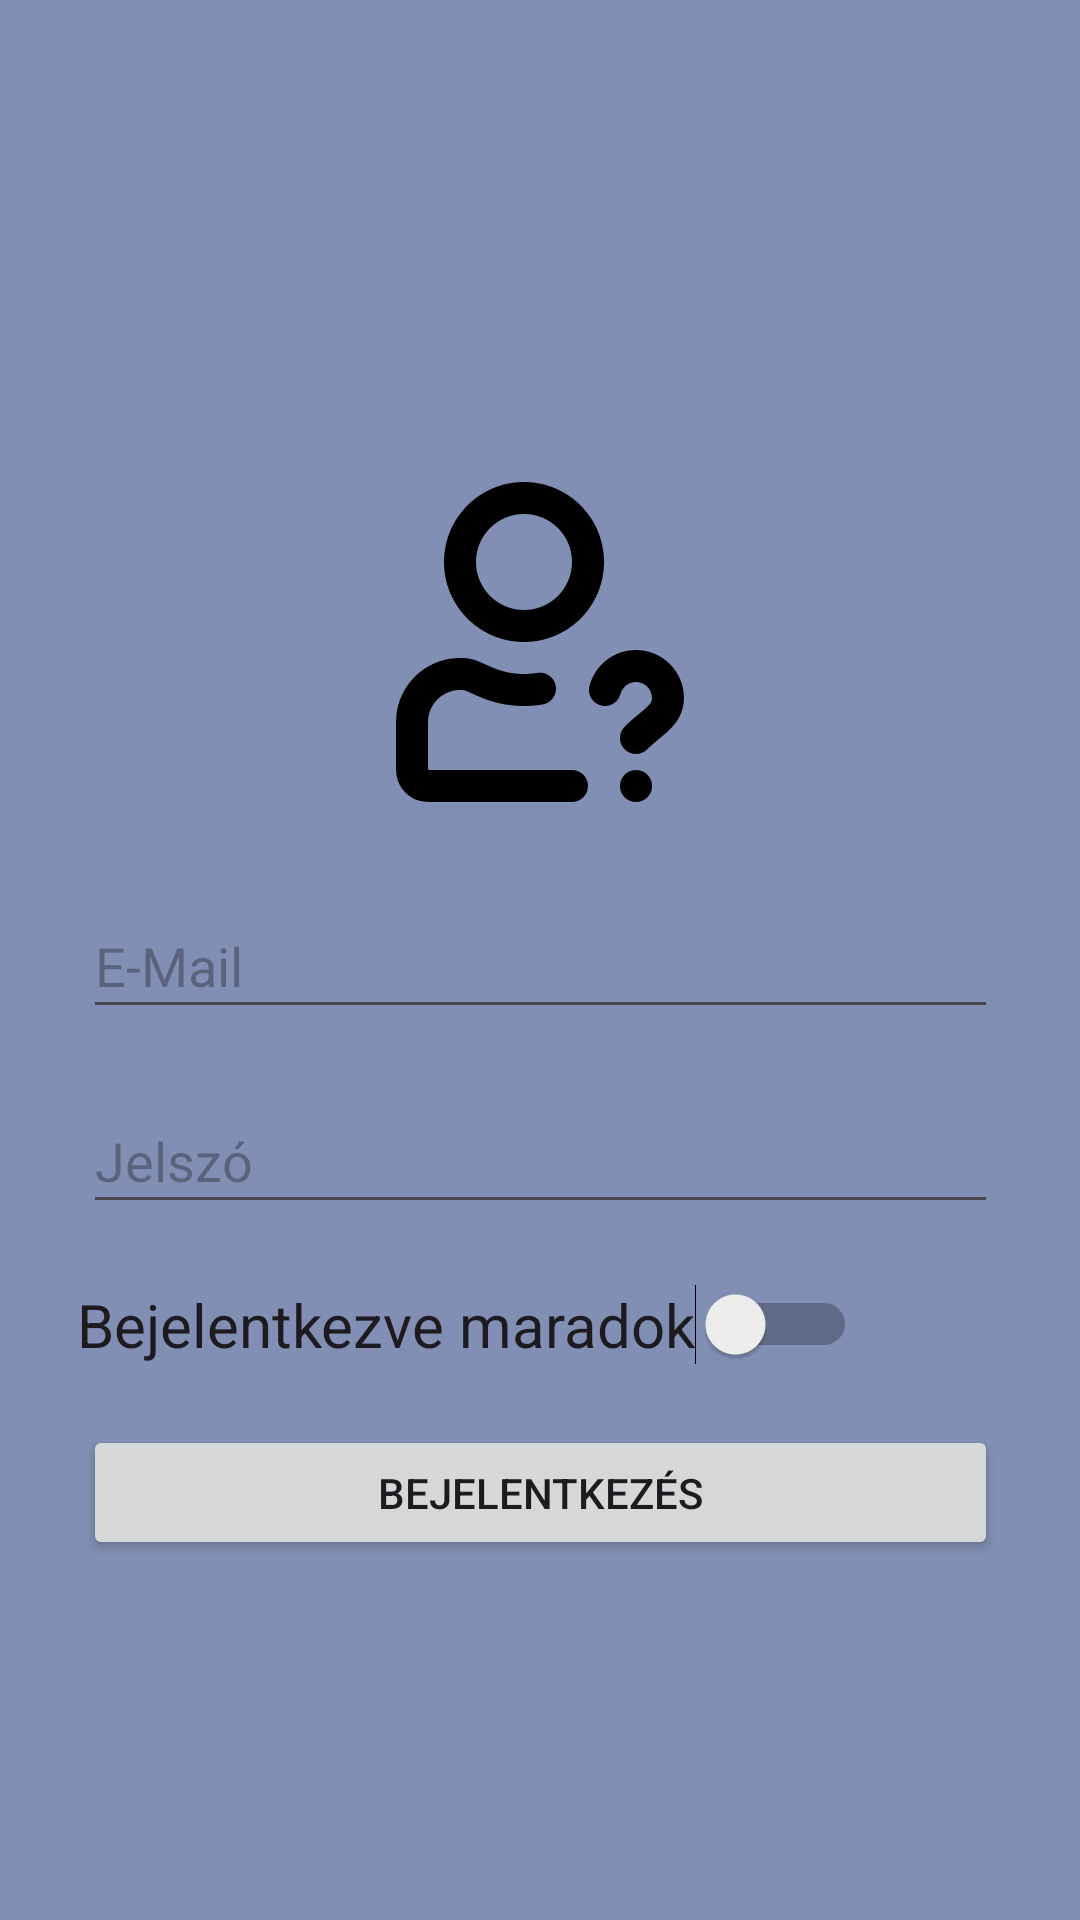

Where to tap for icons on this 1080*1920 app screen, as point (x, y):
login: point (540, 642)
